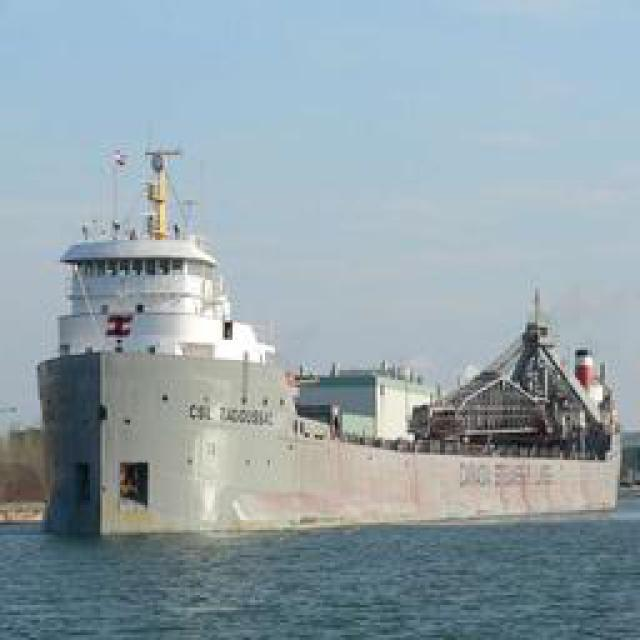Ship: (57, 128, 517, 546)
